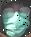with_mask: (2, 2, 31, 37)
